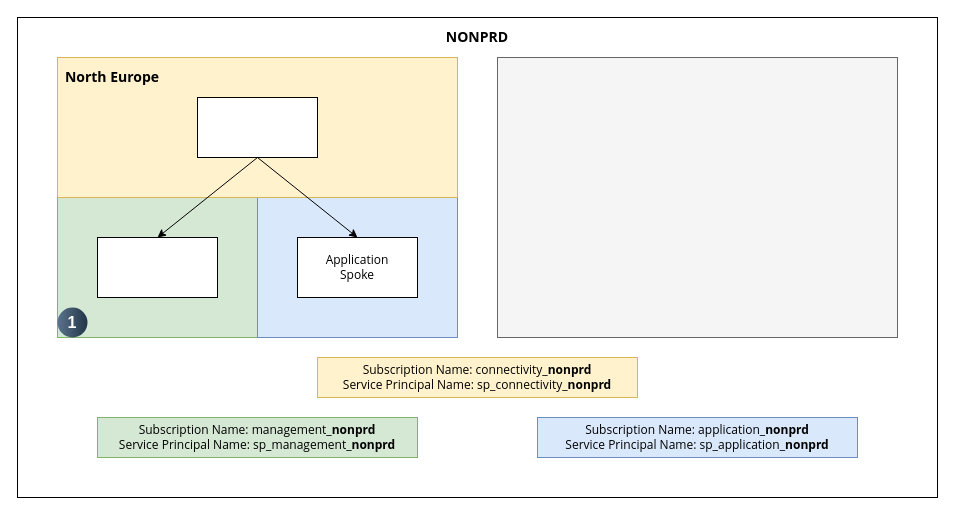
This 955x515 diagram has some shape labels left out. Each missing label, with the centre of its shape:
"Hub" belongs at (x=257, y=127).
"Management Spoke" belongs at (x=157, y=267).
"NONPRD environments are not required across two locations." belongs at (x=697, y=197).
